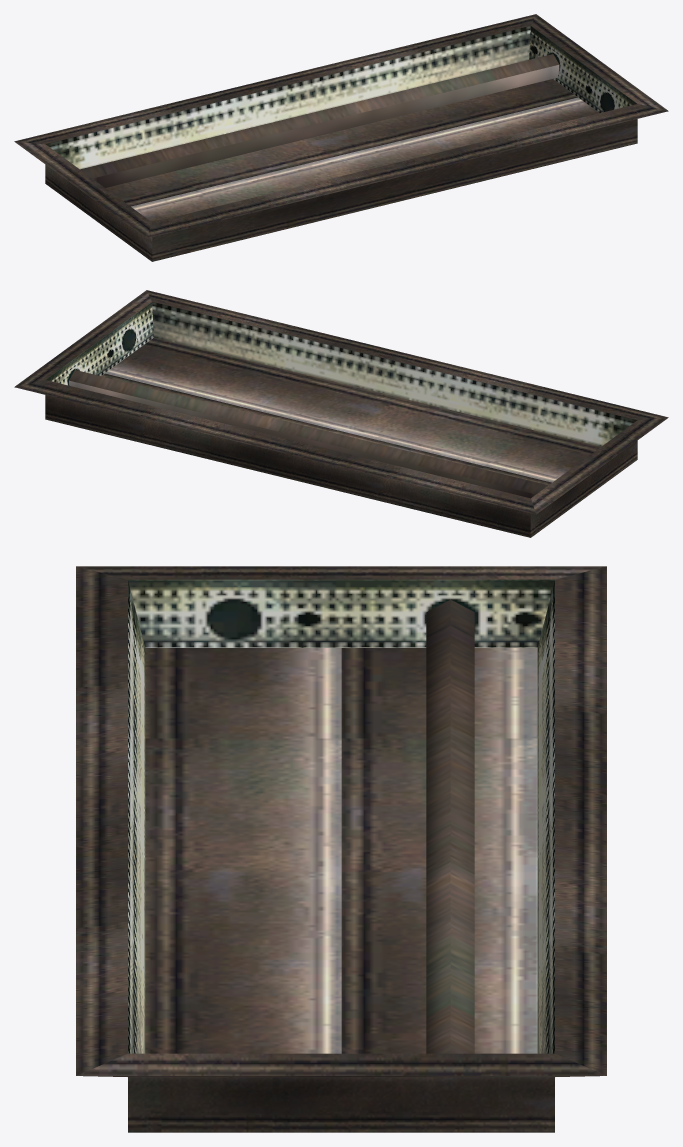
Rendered from 2bulb_flo_sl2.fbx.
The picture shows the model from 3 angles, top to bottom: view 1: azimuth 30°, elevation 25°; view 2: azimuth 150°, elevation 25°; view 3: azimuth 270°, elevation 25°; orthographic projection. The views are drawn at different scales.
Parts seen in each view (by area): view 1: mesh_0; view 2: mesh_0; view 3: mesh_0.
Boxes of the visible parts, left/top/right/bottom form: mesh_0: left=14, top=14, right=668, bottom=261; mesh_0: left=14, top=290, right=668, bottom=537; mesh_0: left=76, top=566, right=606, bottom=1132.
Size of the model in its own units: 139 by 10.07 by 61.27.
Materials: 1 (1 with a texture image).
